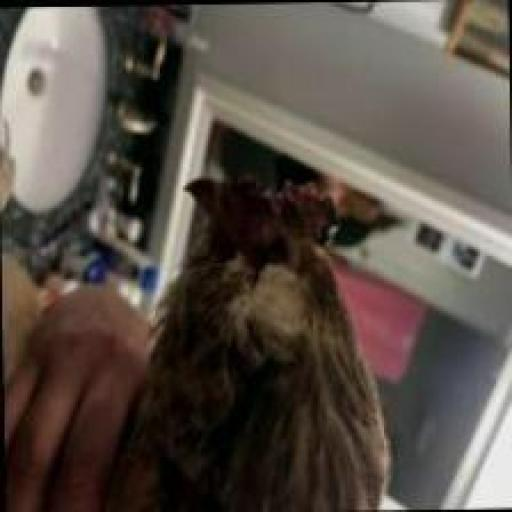disease: (181, 152, 367, 360)
